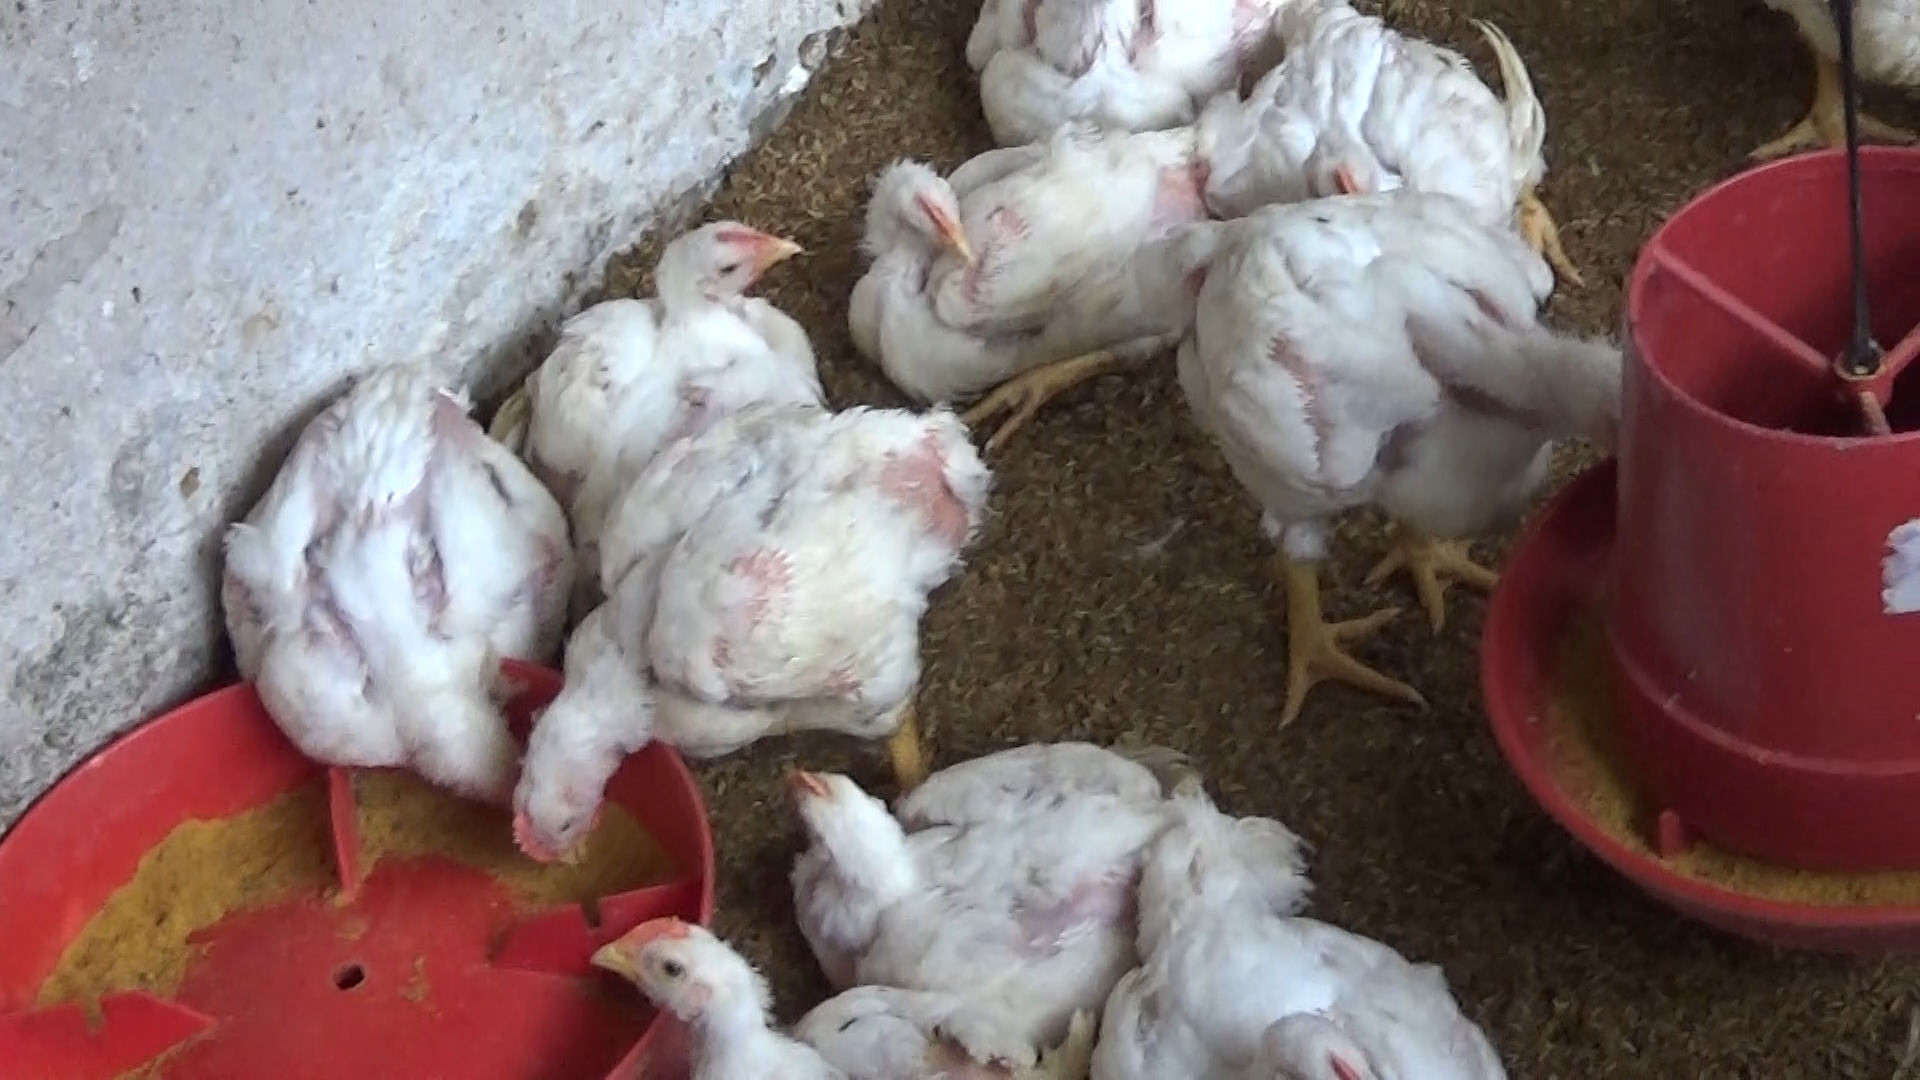Pollos: (1160, 185, 1648, 721), (498, 384, 985, 864), (208, 353, 551, 851), (752, 727, 1298, 1022), (1098, 798, 1505, 1080), (477, 214, 837, 522), (856, 132, 1200, 413), (1225, 1, 1585, 264), (587, 893, 945, 1080), (957, 0, 1269, 148)
